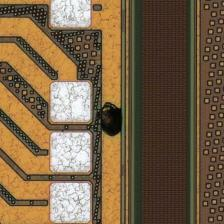COATING BAD: (93, 100, 129, 141)
